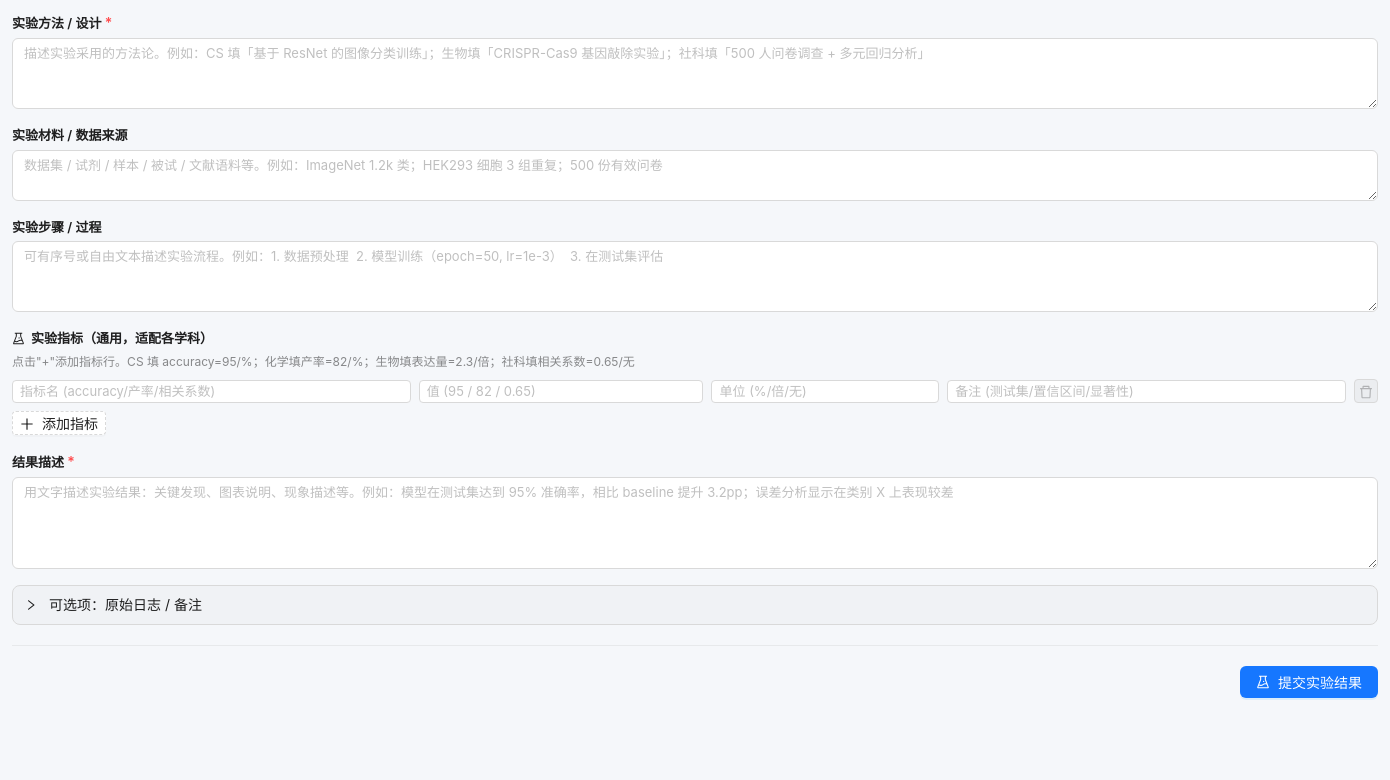
Scenario: components/ExperimentInputForm › 必填校验：touched 前不显示错误，touched 后显示 methodology 错误
Expected: the text "请填写实验方法" is not shown
Click the button "提交实验结果": (1309, 682) [1240,666,1378,698]
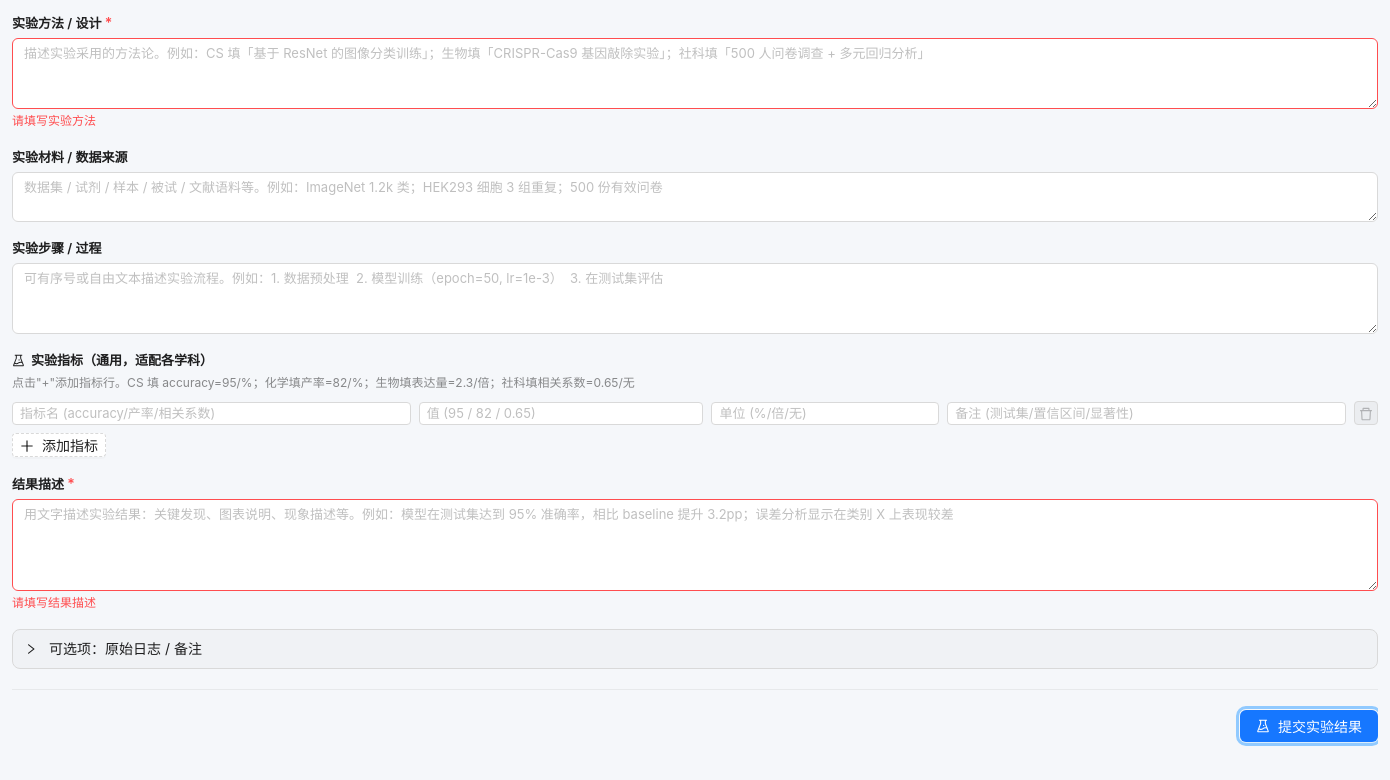
Result: the text "请填写实验方法" is shown at [12,113,96,128]
Result: the text "请填写结果描述" is shown at [12,595,96,610]
